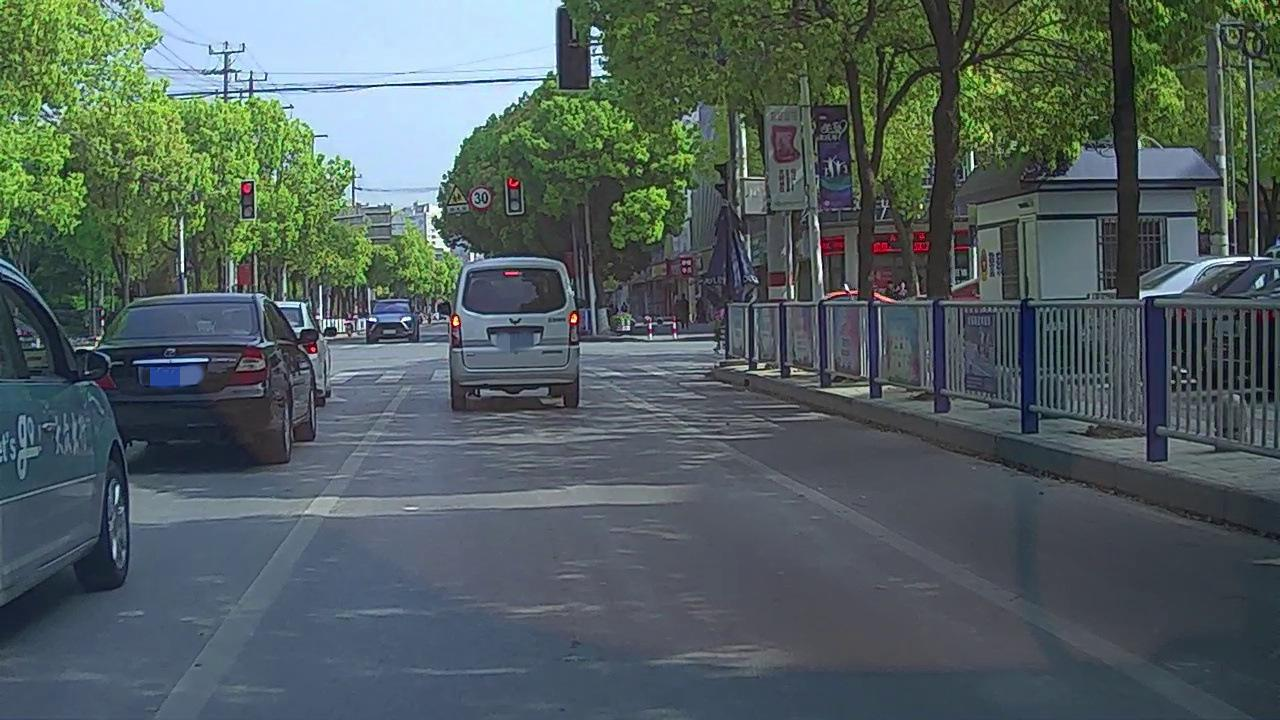traffic_light: (506, 173, 522, 214), (241, 181, 254, 221)
